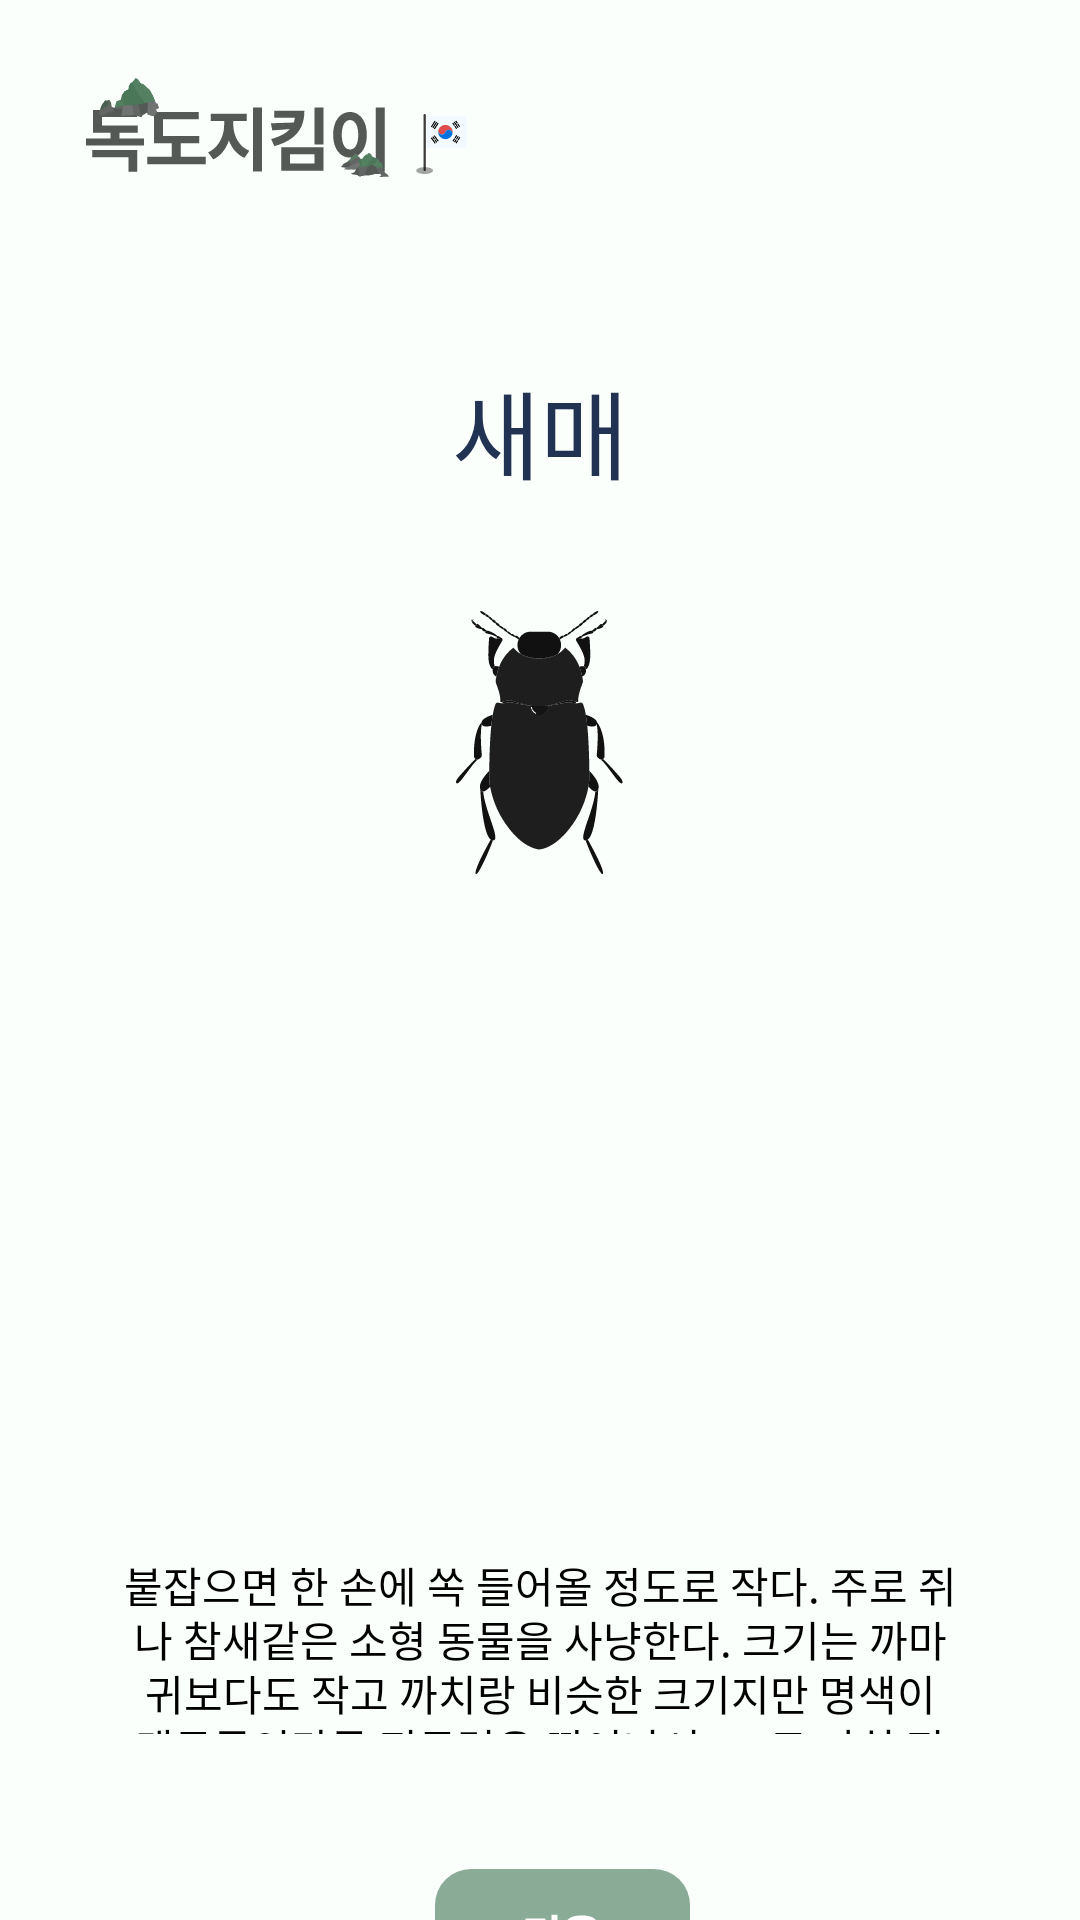

Icon click points for this 1080*1920 phone screenshot, format [x,y]:
insect: [539,742]
